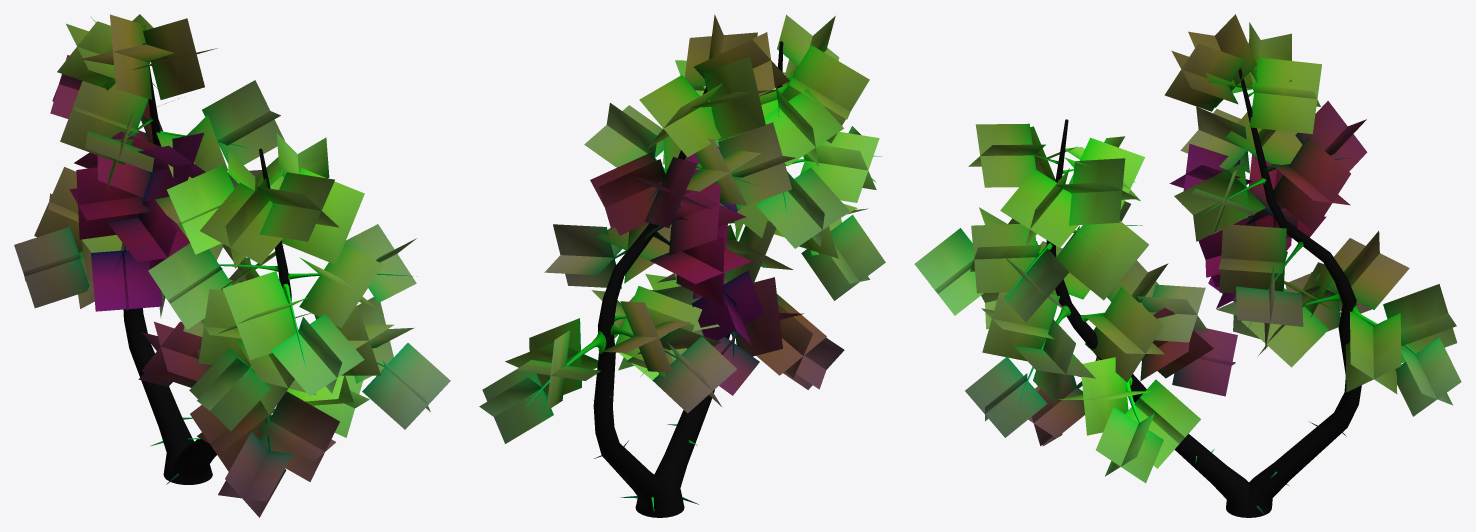
Rendered from URP_P7_Tree_10_LOD_0.fbx.
3 views of the same model, side by side, from view 1: azimuth 30°, elevation 25°; view 2: azimuth 150°, elevation 25°; view 3: azimuth 270°, elevation 25° (orthographic). The views are drawn at different scales.
Parts seen in each view (by area): view 1: Tree_10_LOD_0; view 2: Tree_10_LOD_0; view 3: Tree_10_LOD_0.
Boxes of the visible parts, x1,y1,x2,y2 form: Tree_10_LOD_0: [14, 14, 450, 517]; Tree_10_LOD_0: [479, 14, 885, 517]; Tree_10_LOD_0: [914, 14, 1461, 517].
Size of the model in its own units: 246 by 470 by 512.
